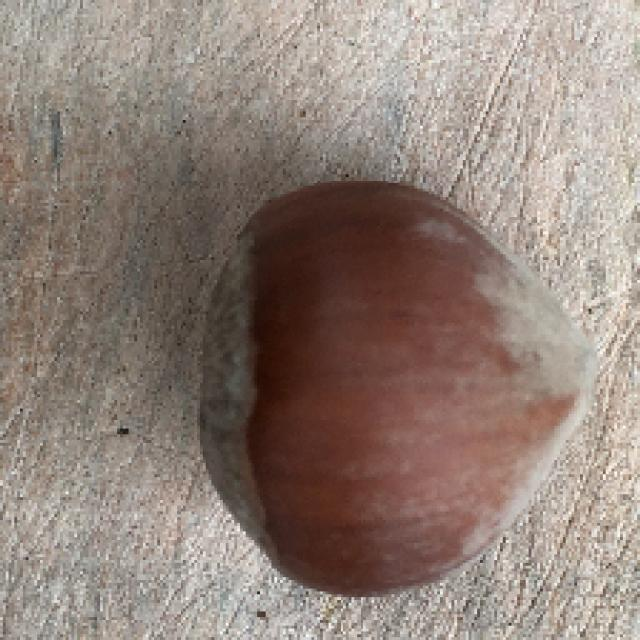qualityHazelnut: (199, 172, 598, 604)
